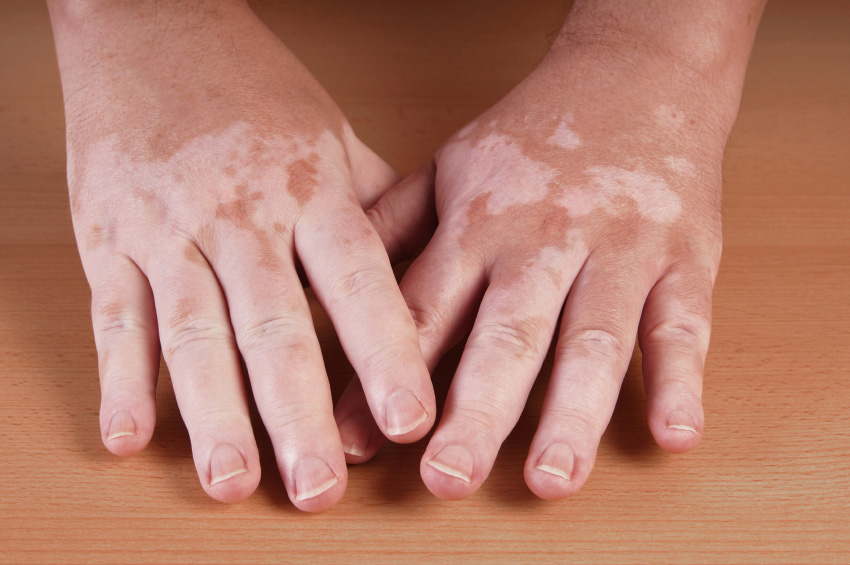vitiligo: (67, 91, 683, 447)
